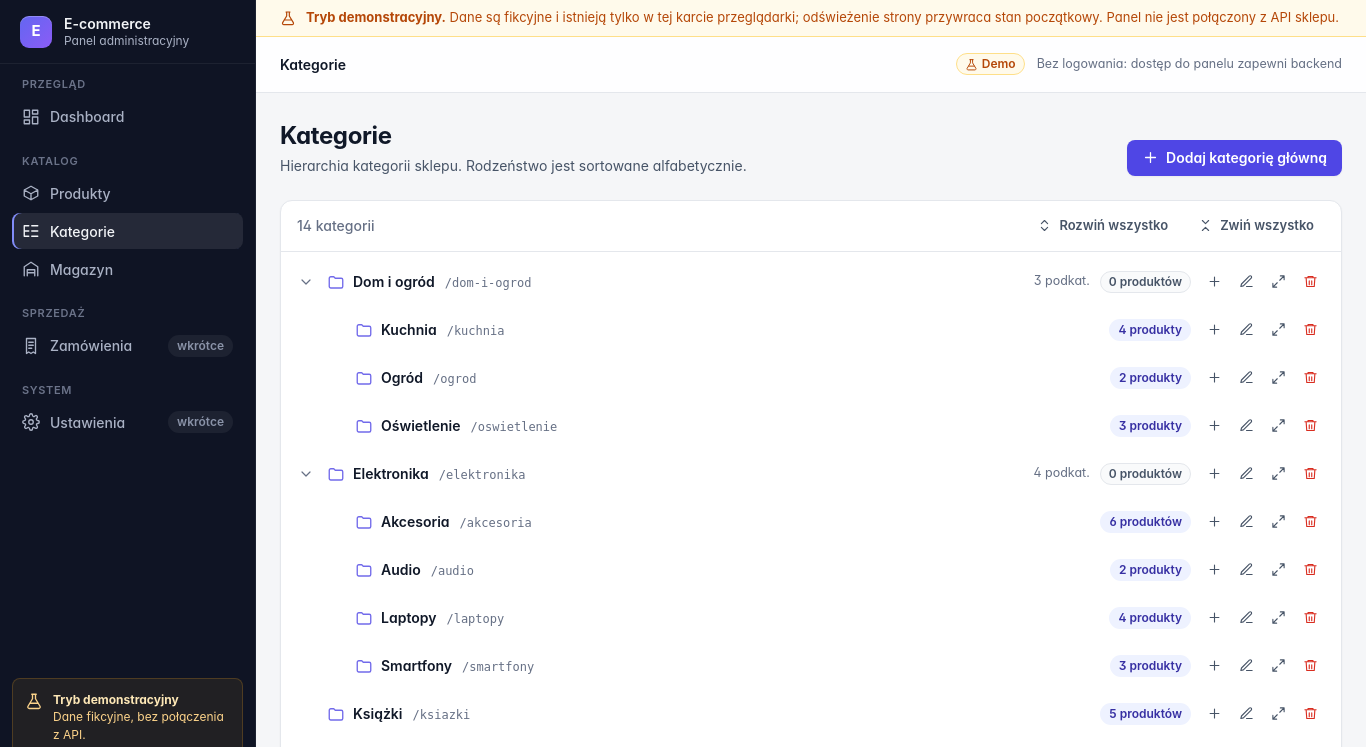
Scenario: CategoriesPage › shows the backend error for a move that would create a cycle
Click the button named "Przenieś Elektronika": {"x": 1278, "y": 474} [1263, 458, 1293, 488]
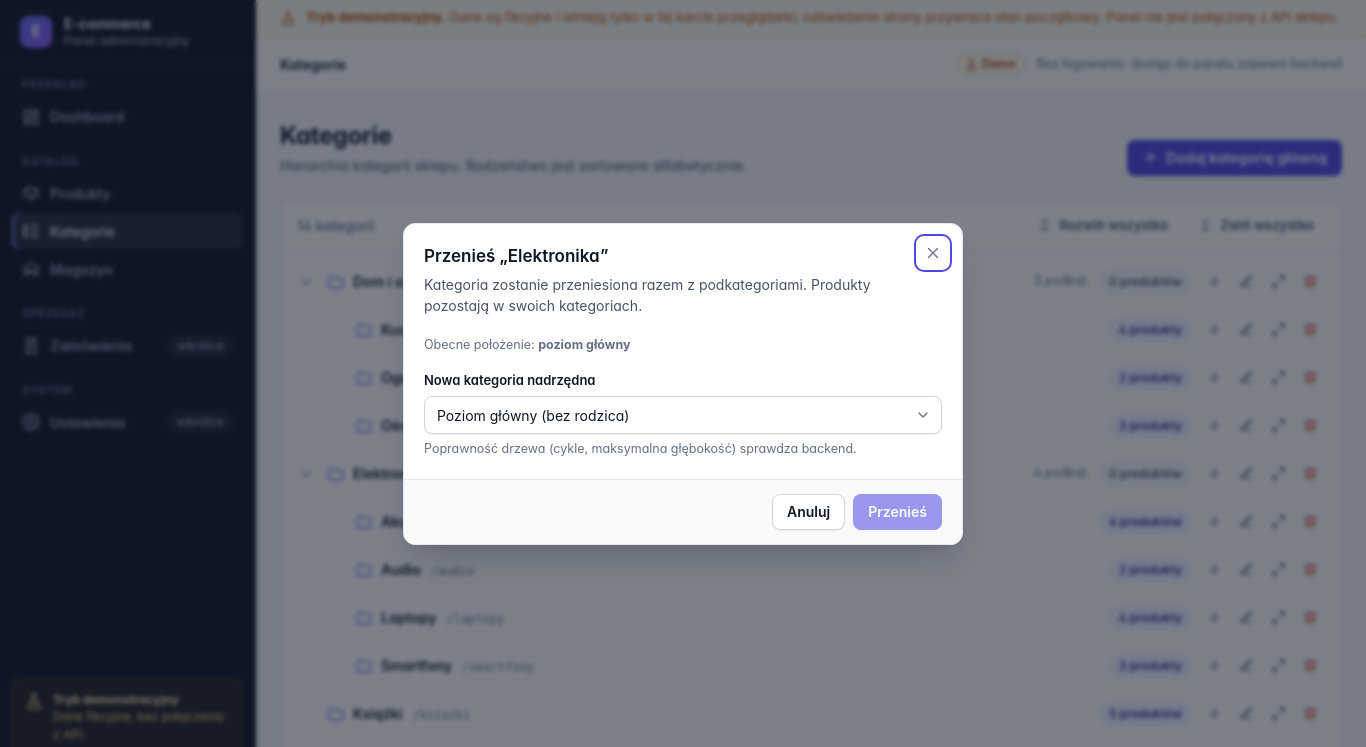
Select "Laptopy" in the dropdown: {"x": 683, "y": 415} [424, 396, 942, 434]
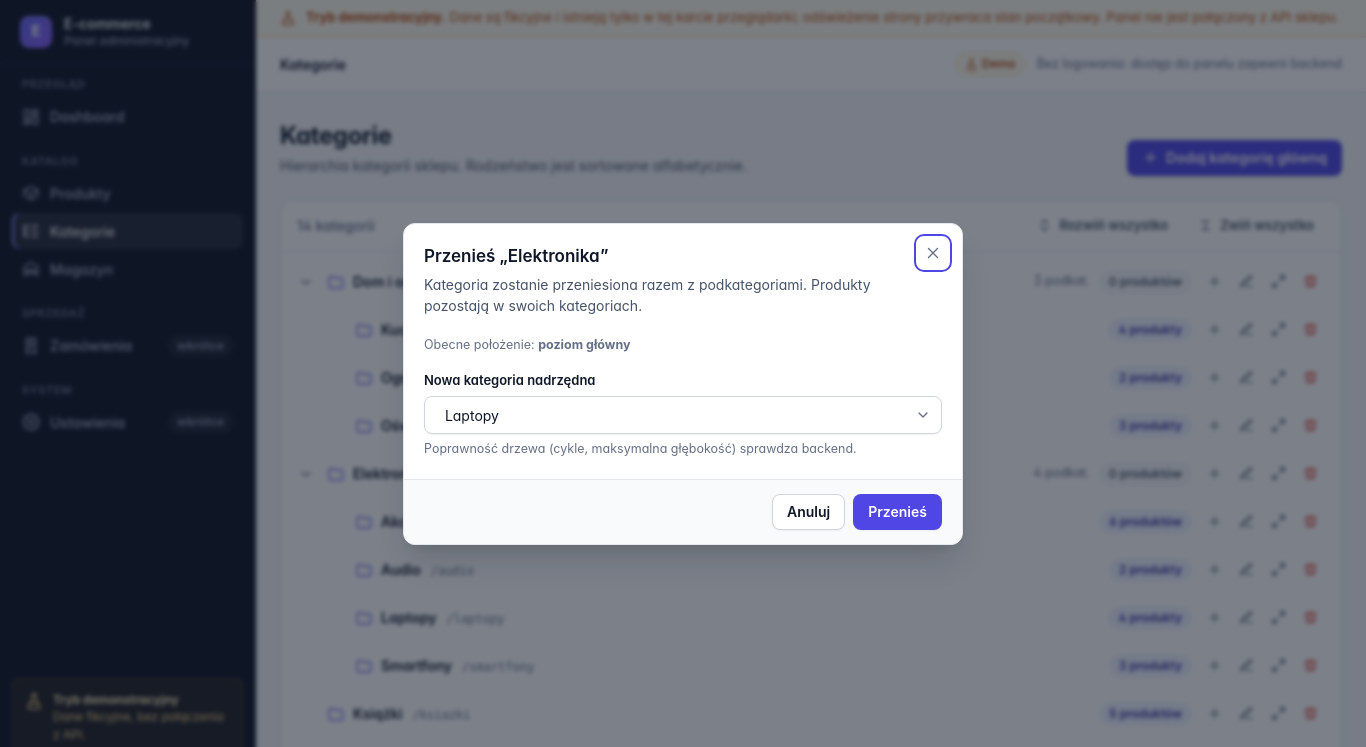
Click the button "Przenieś": {"x": 898, "y": 512} [853, 494, 942, 530]
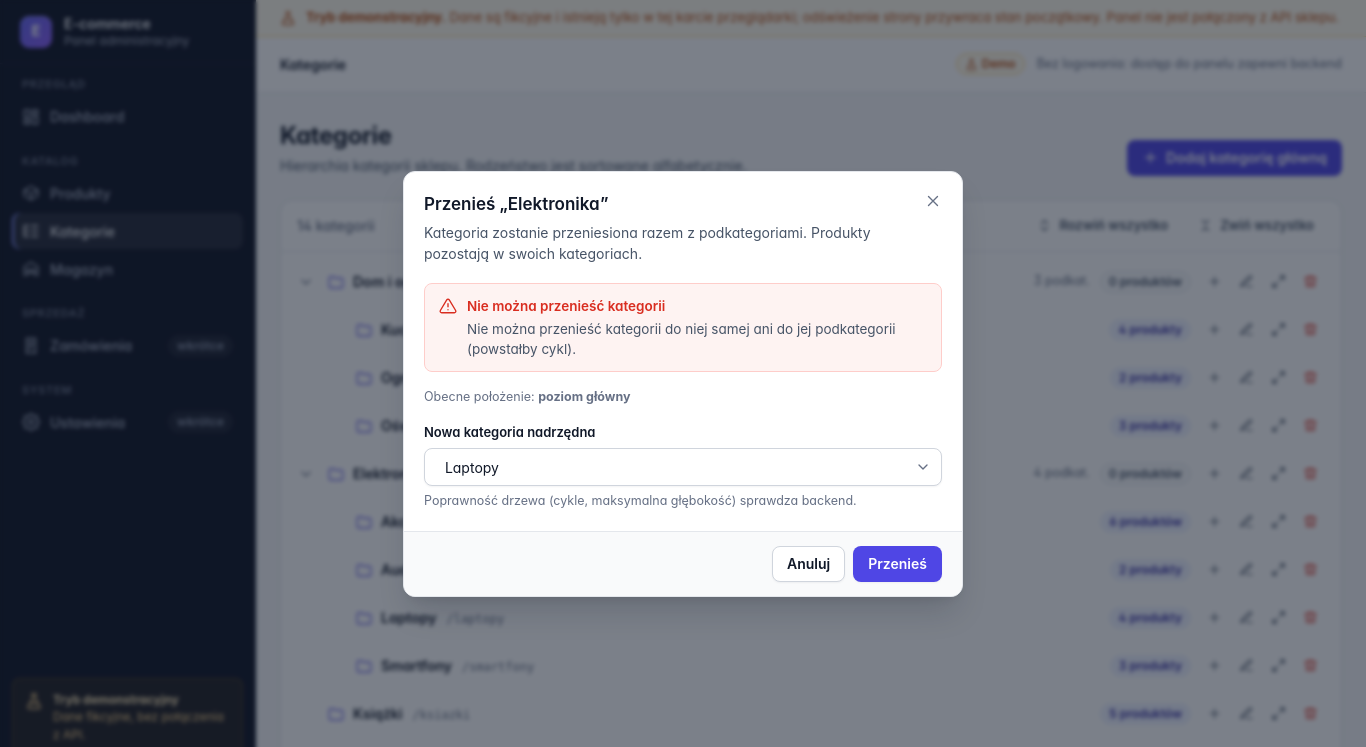
Result: the message shows "powstałby cykl" at [467, 321, 896, 357]
